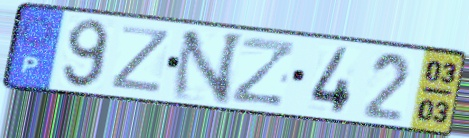2: (359, 50, 415, 125)
4: (306, 45, 354, 117)
9: (60, 17, 115, 91)
N: (167, 29, 248, 106)
Z: (228, 34, 299, 108), (107, 23, 173, 96)
